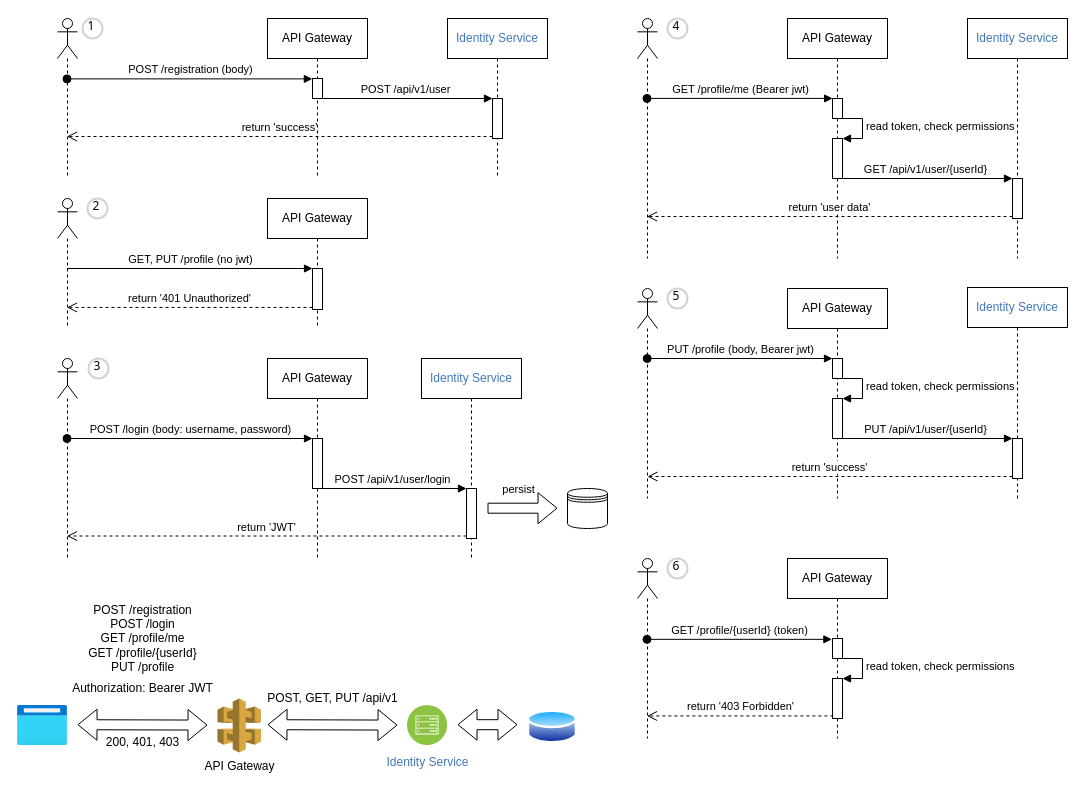
This 1085x790 diagram has some shape labels left out. Each missing label, with the centre of its shape:
"DB" goes at (587,508).
"User DB" goes at (552,726).
